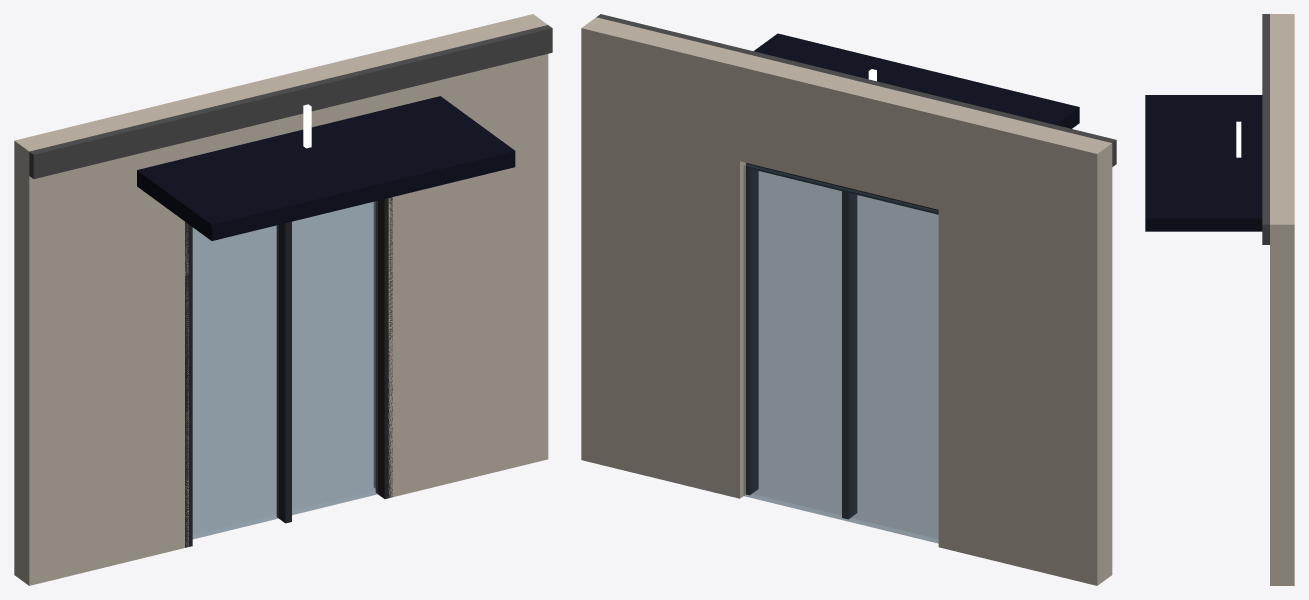
Rendered from KIT_Wall_4m_Door_Plaster.glb.
3 views of the same model, side by side, from view 1: azimuth 30°, elevation 25°; view 2: azimuth 150°, elevation 25°; view 3: azimuth 270°, elevation 25° (orthographic). The views are drawn at different scales.
Visible parts, largest first — view 1: KIT_Wall_4m_Door_Plaster; view 2: KIT_Wall_4m_Door_Plaster; view 3: KIT_Wall_4m_Door_Plaster.
Boxes of the visible parts, x1,y1,x2,y2 form: KIT_Wall_4m_Door_Plaster: (14, 14, 552, 585); KIT_Wall_4m_Door_Plaster: (581, 14, 1116, 585); KIT_Wall_4m_Door_Plaster: (1145, 14, 1294, 585).
Size of the model in its own units: 4 by 3.2 by 1.2.
